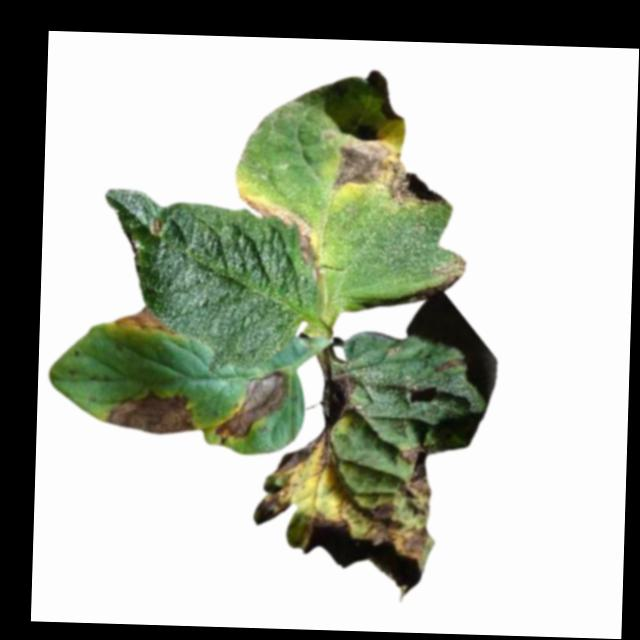Early_blight: (260, 369, 442, 604), (327, 136, 449, 207), (235, 195, 324, 283), (214, 368, 289, 450), (99, 384, 198, 437), (112, 305, 175, 335), (433, 253, 467, 294), (430, 354, 464, 372)
